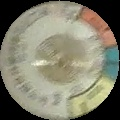green: (103, 46, 120, 79)
red: (78, 6, 119, 48)
yellow: (70, 76, 118, 119)
